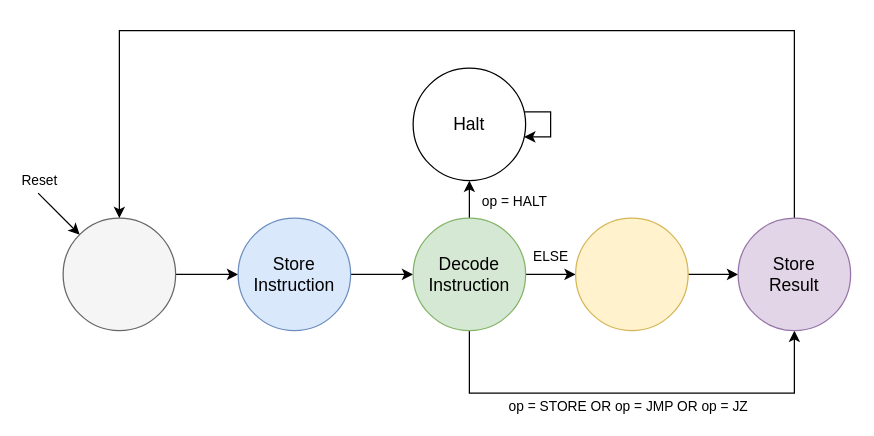
Image size: 874x436. Some labels were removed from this diagram. Each missing label, with the centre of its shape:
Fetch Instruction: (x=119, y=274)
Fetch Operand: (x=631, y=274)
